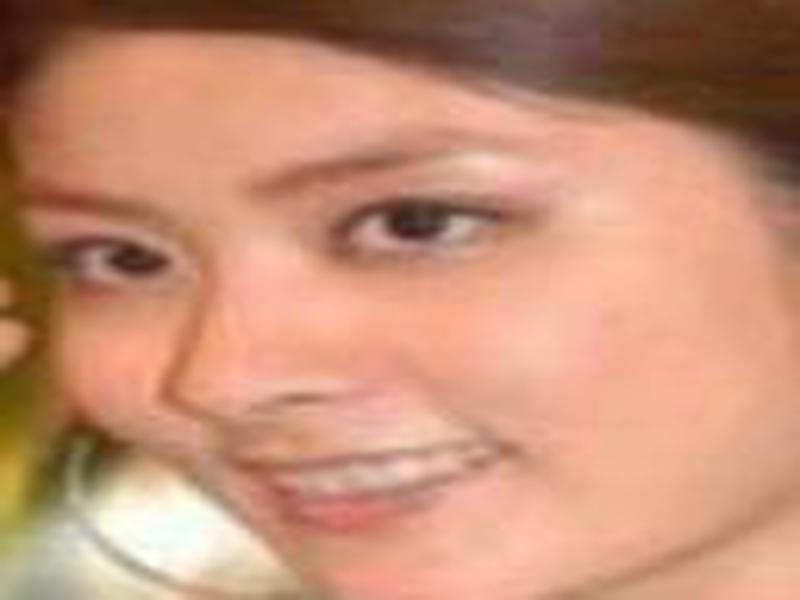without_mask: (1, 71, 800, 600)
